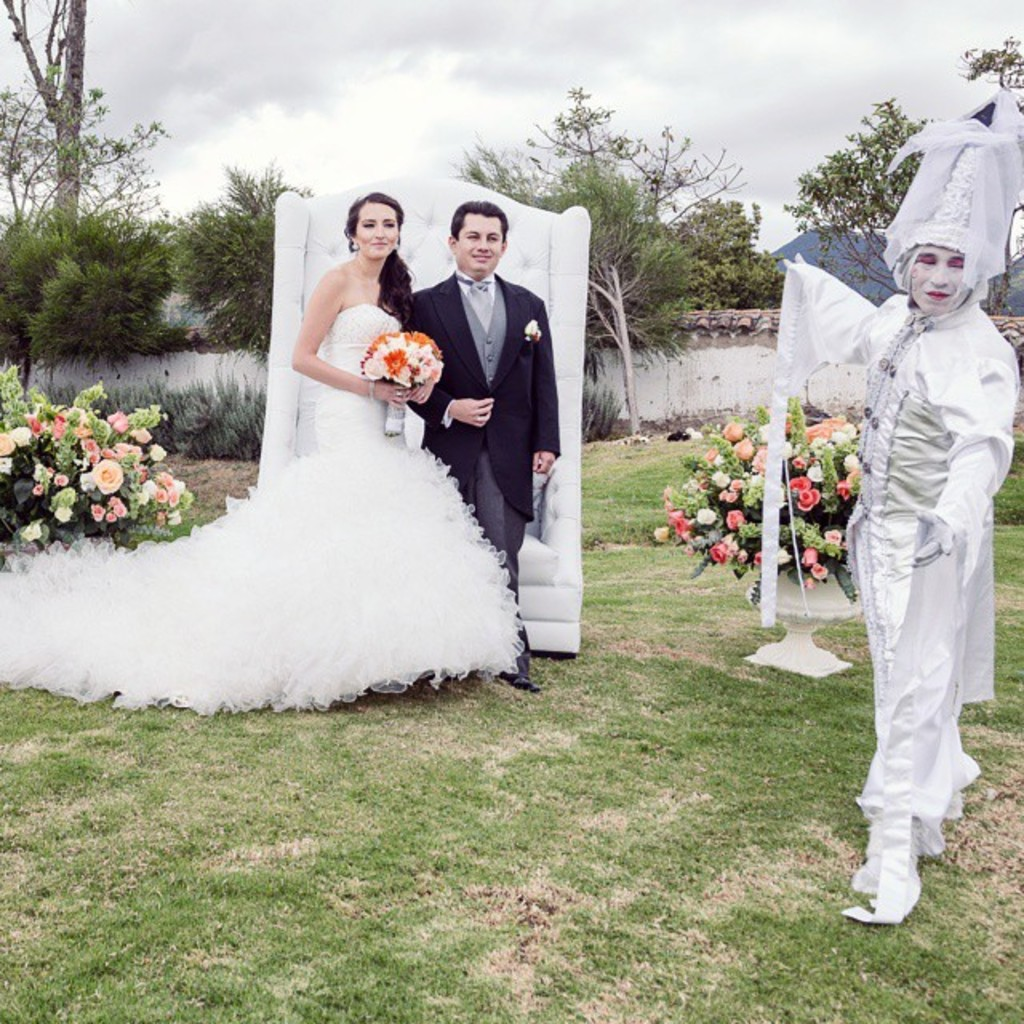Tree: (0, 0, 308, 380), (449, 67, 787, 345), (777, 27, 1022, 227)
